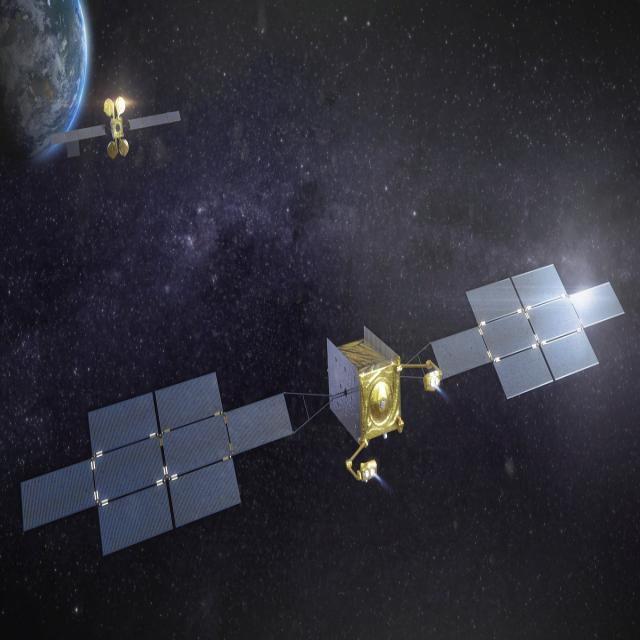satellite: (13, 254, 630, 566), (39, 71, 196, 172)
